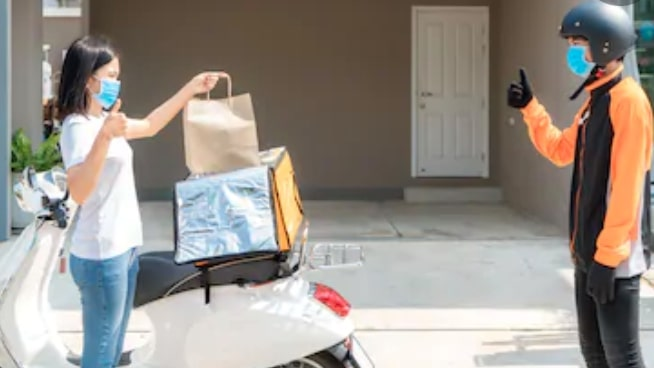Caution: (58, 2, 652, 364)
